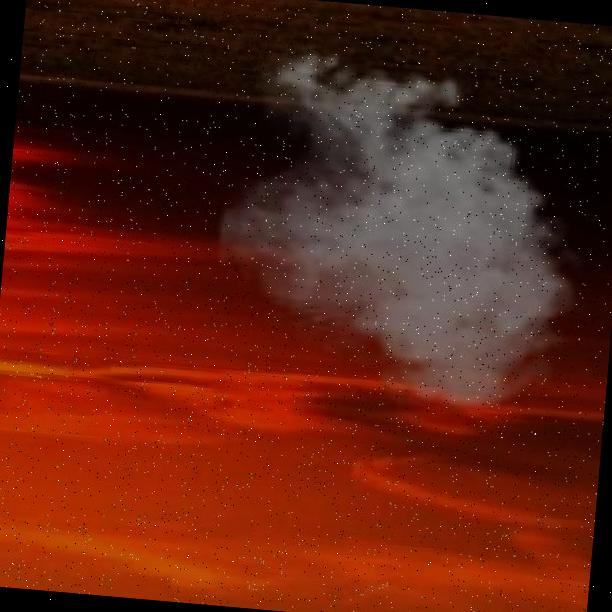smoke: (188, 41, 609, 406)
